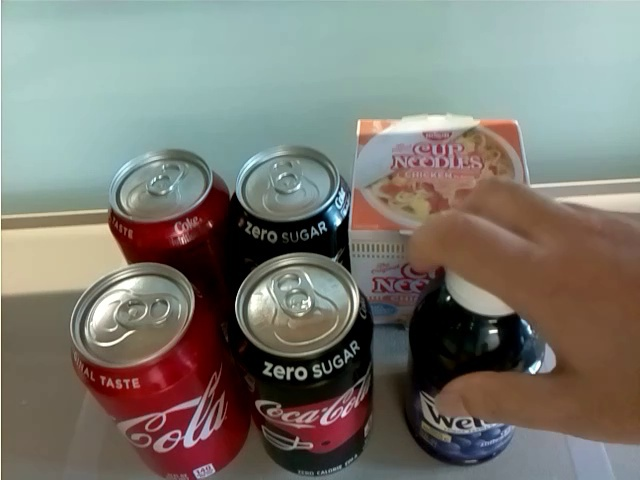cocacola: (67, 263, 253, 480), (107, 146, 236, 261)
cocacola-zero: (231, 253, 374, 480), (230, 144, 351, 252)
hand: (408, 177, 640, 446)
juice: (403, 252, 545, 469)
noodles: (345, 115, 534, 331)
